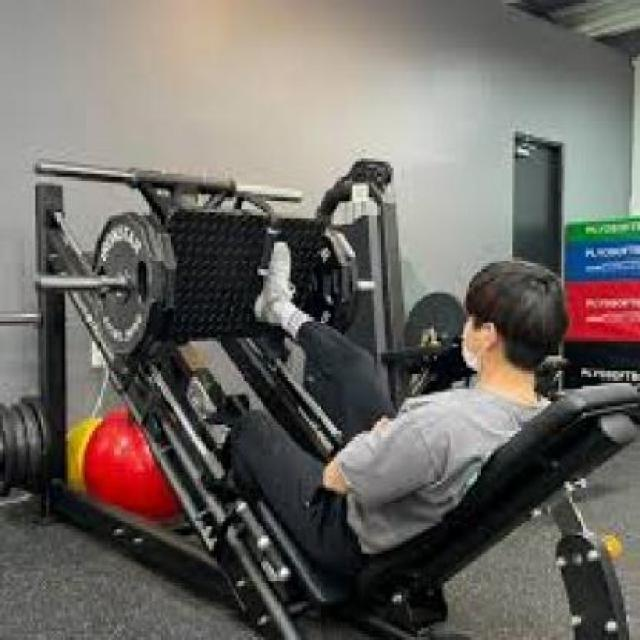leg press: (0, 138, 640, 638)
